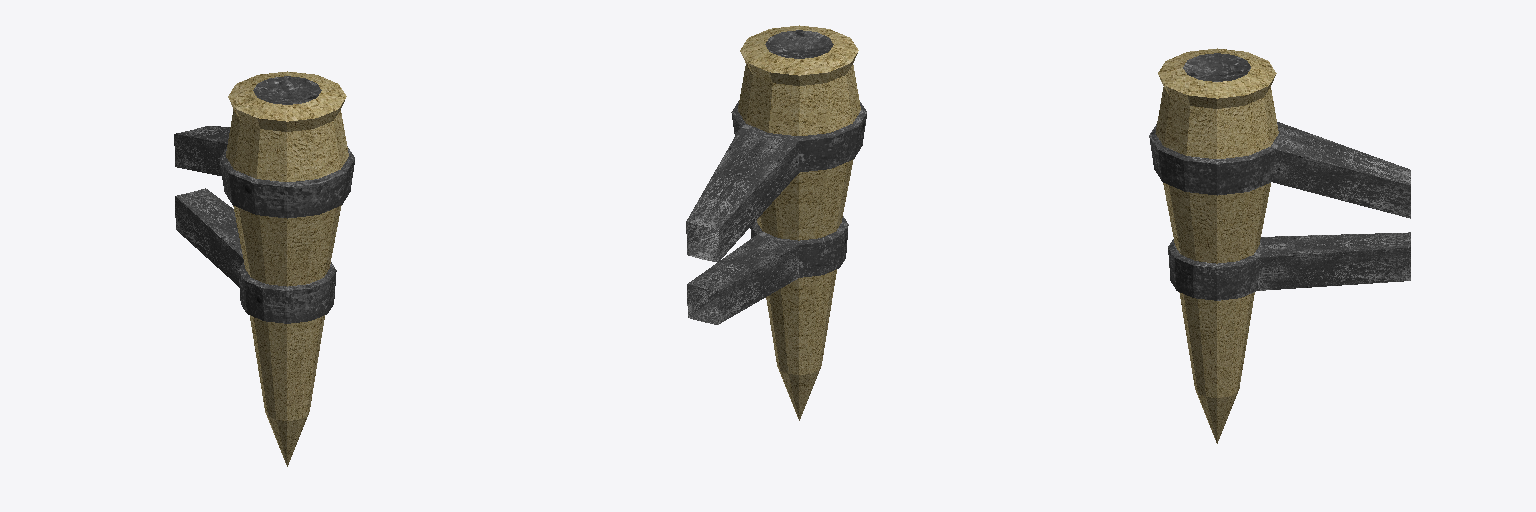
3 renders of one model, left to right at view 1: azimuth 30°, elevation 25°; view 2: azimuth 150°, elevation 25°; view 3: azimuth 270°, elevation 25°, orthographic.
Bounding box in the file's own units: 13.2 × 40.35 × 25.4.
3 materials, 2 textured.